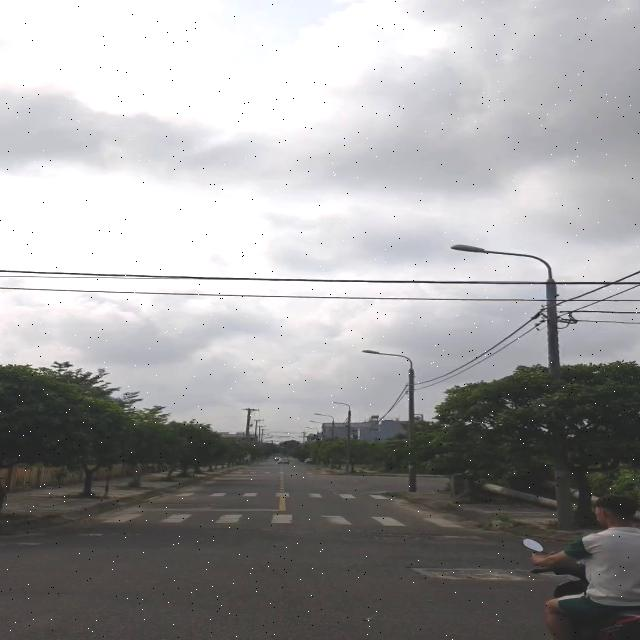no_helmet: (590, 495, 640, 528)
